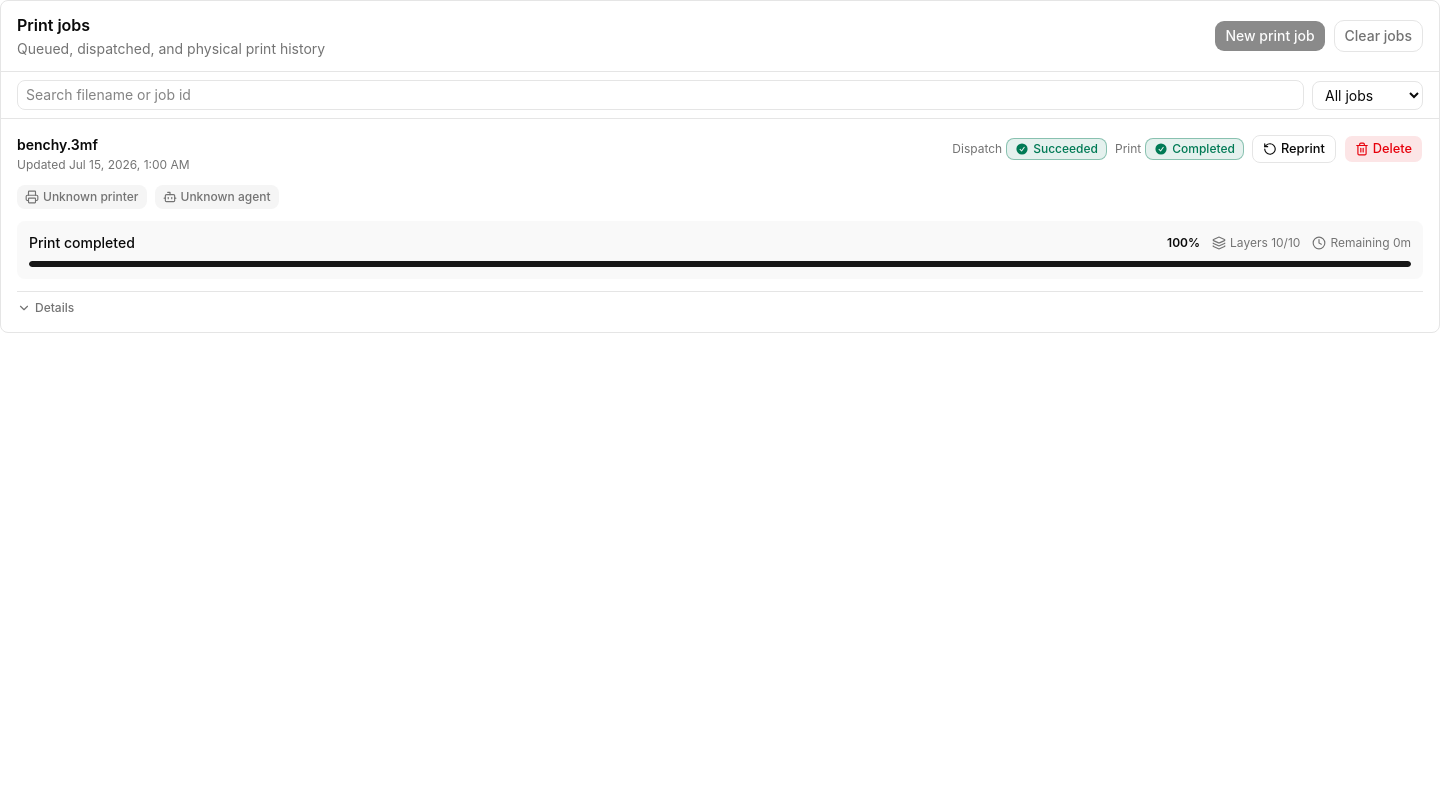
Test: JobHistory row actions › keeps confirmation open when the Hub rejects deletion
This screenshot has width=1440, height=810.
Click the button with aria-label "Delete benchy.3mf" at (1383, 149), box [1344,135,1423,163]
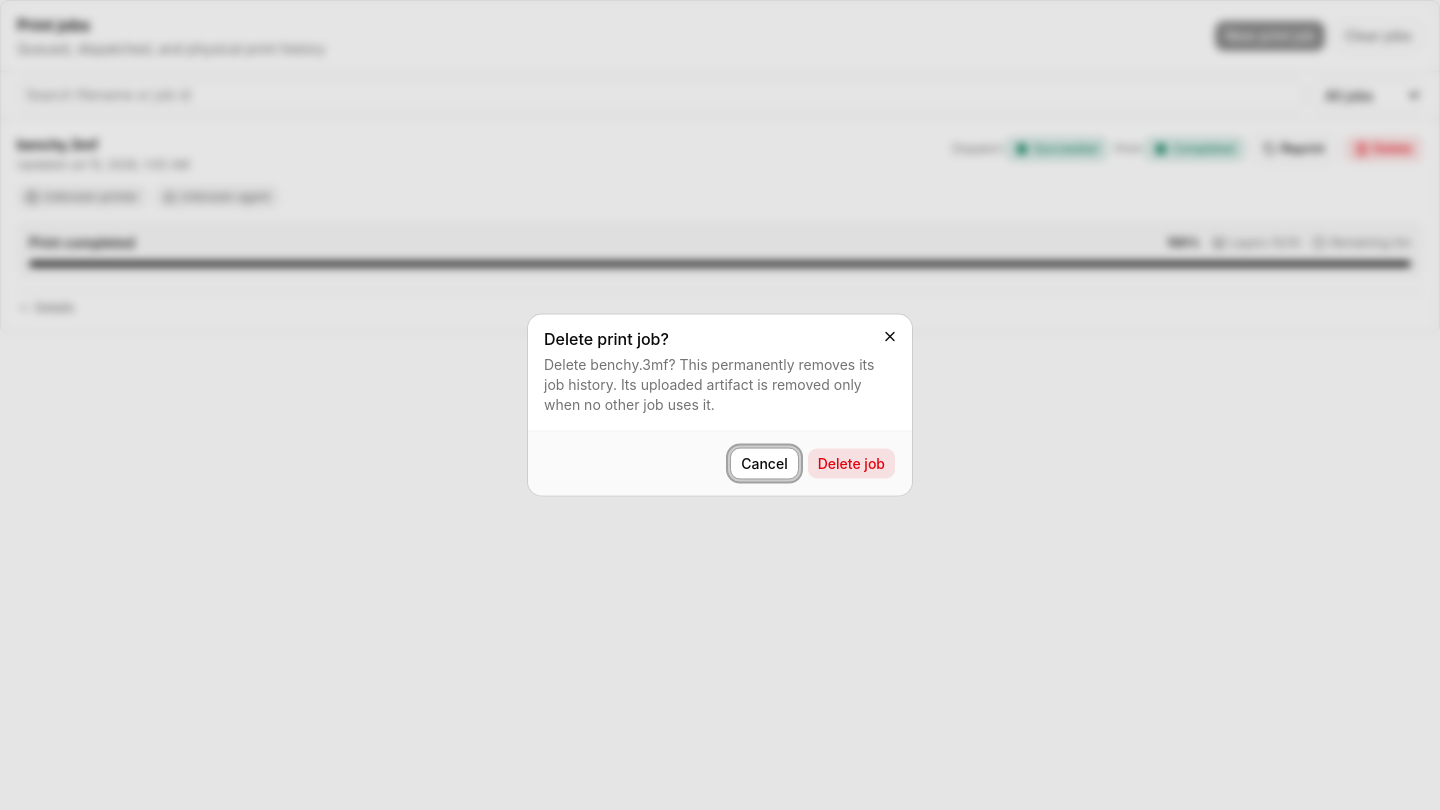
Click the button "Delete job" at (851, 464), box [807,448,896,480]
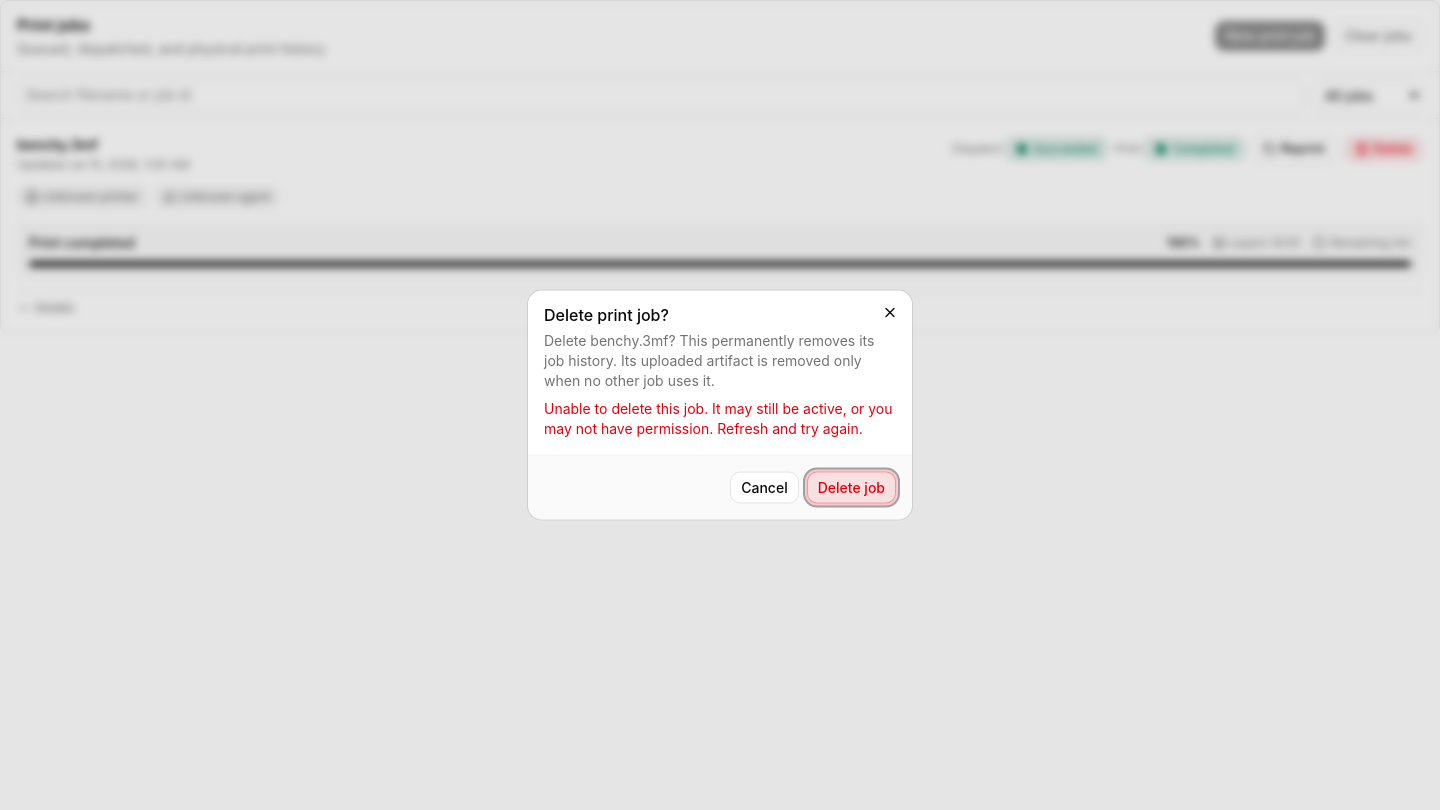
Now the dialog is shown, box [528,290,912,520]
Now the text "Unable to delete this job. It may still be active, or you may not have permission. Refresh and try again." is shown, box [544,400,892,436]
